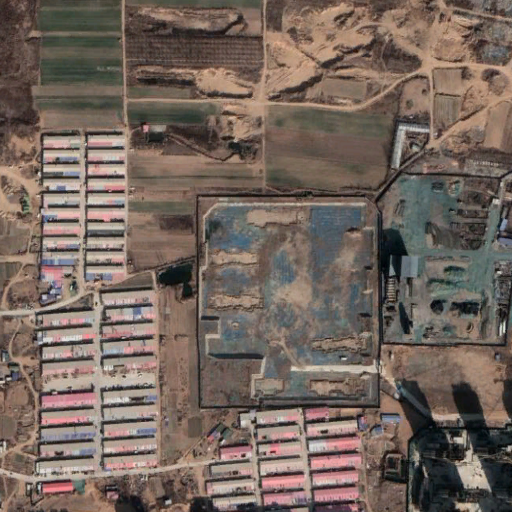cw: (201, 203, 382, 410), (380, 173, 512, 351)
